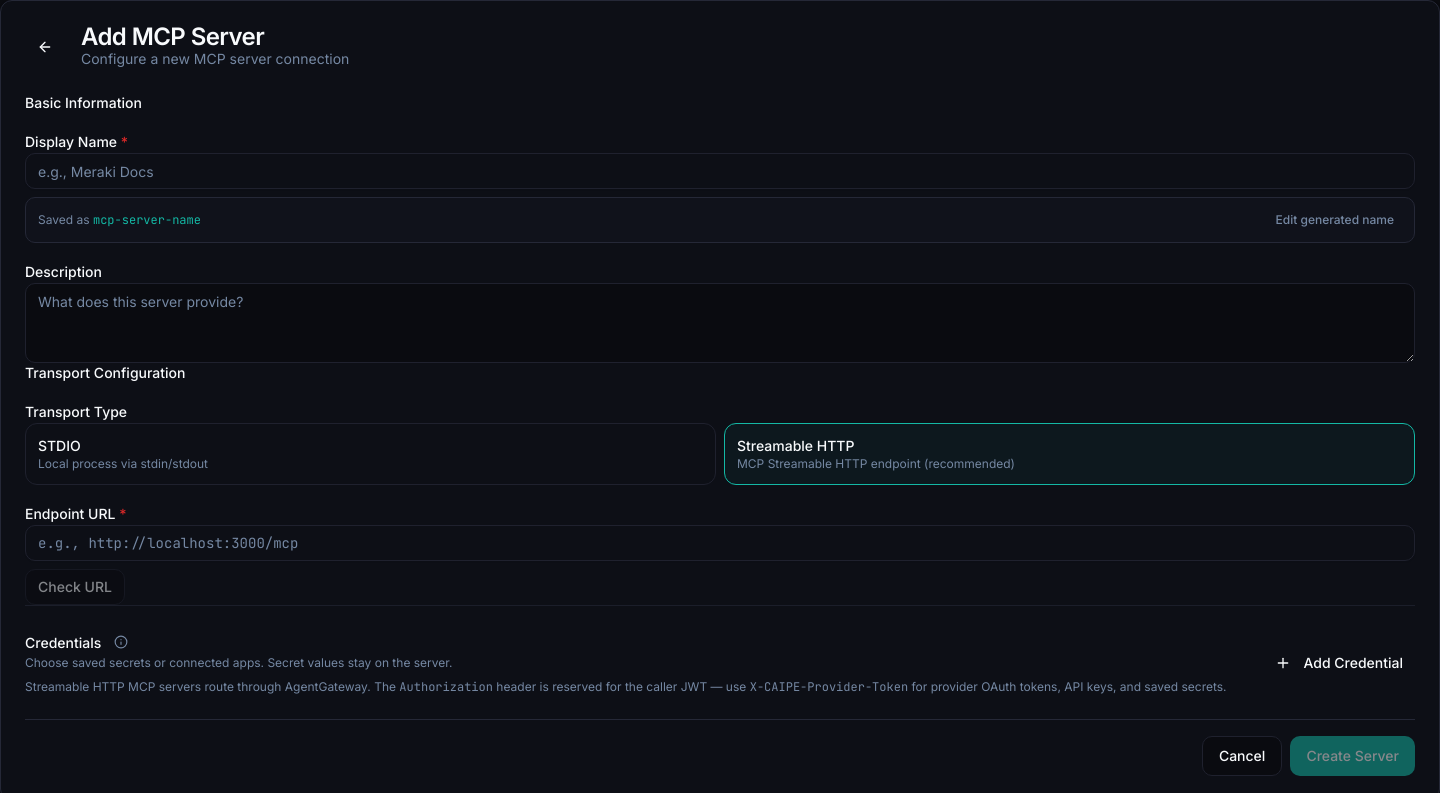
it: MCPServerEditor credential sources › warns when Authorization is selected for AgentGateway-routed servers
Type "Auth Warning Test" into the field labelled "Display Name *". click: x=720, y=171
box: [25, 153, 1415, 189]
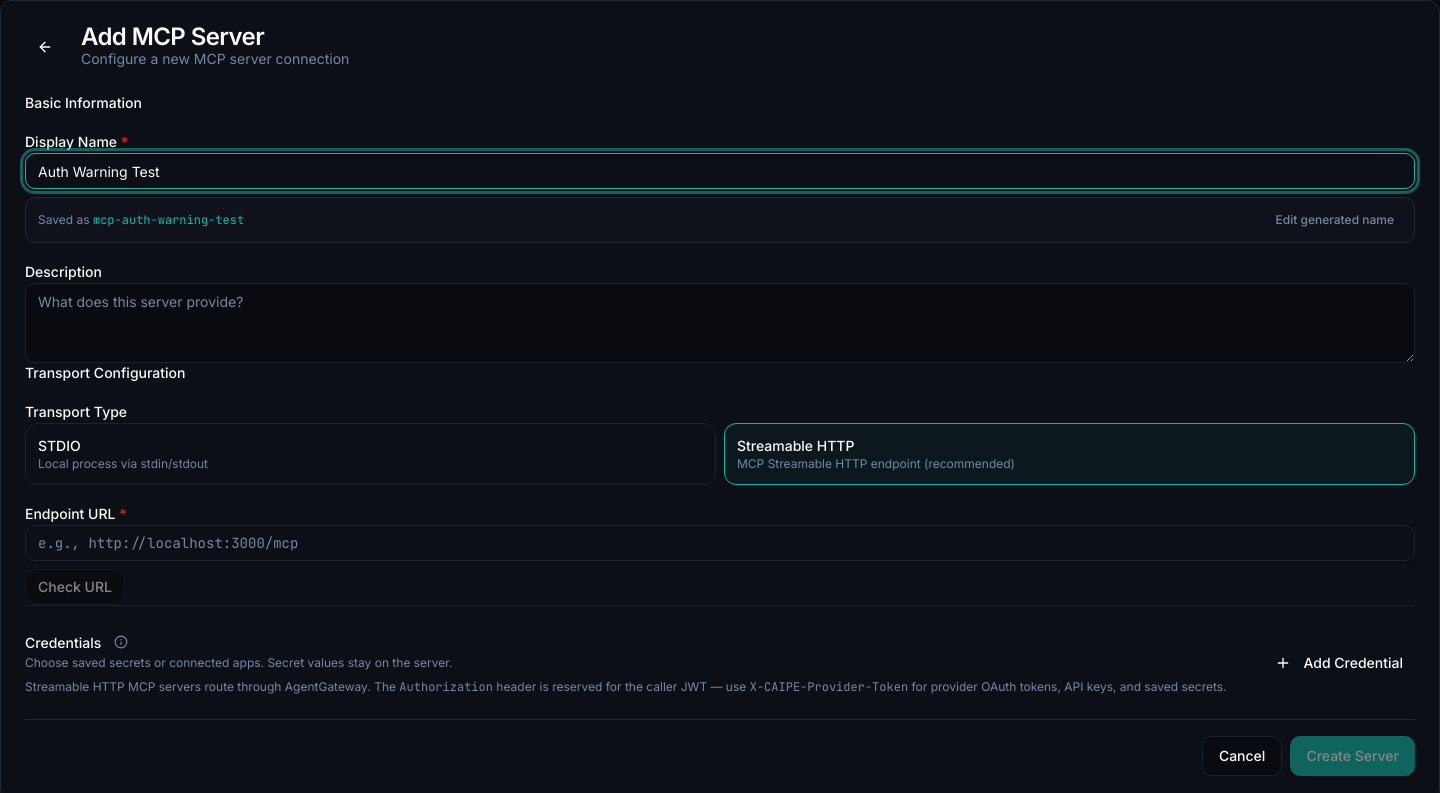
Type "https://mcp.example.com/mcp" into the field labelled "Endpoint URL *". click: x=720, y=543
box: [25, 525, 1415, 561]
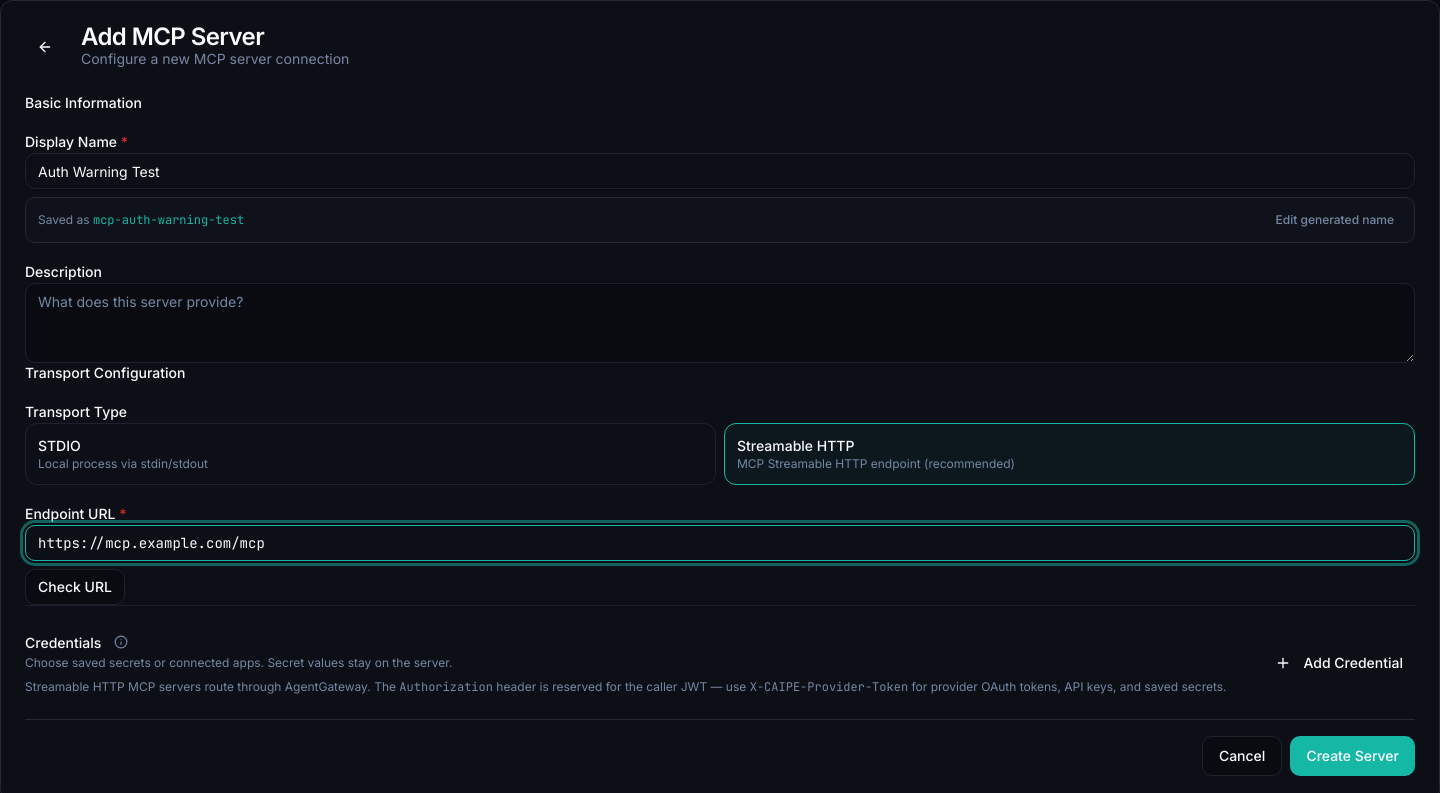
Click the button "Add Credential". click: x=1339, y=662
box: [1263, 644, 1415, 680]
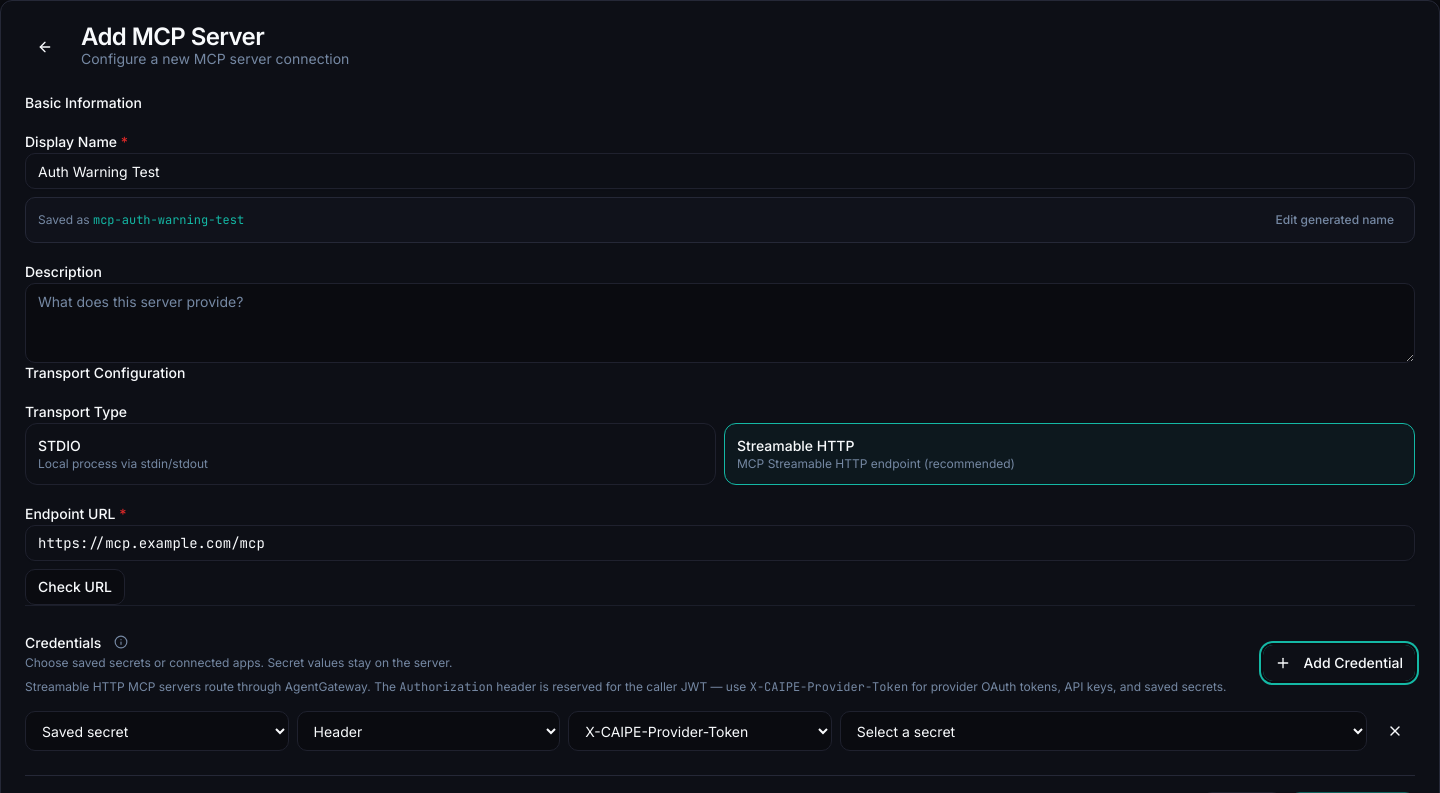
Expected: the text "route through AgentGateway" is shown, [25, 679, 396, 694]
Select "Authorization" in the dropdown named "credential header". click: x=700, y=731
box: [568, 711, 832, 751]
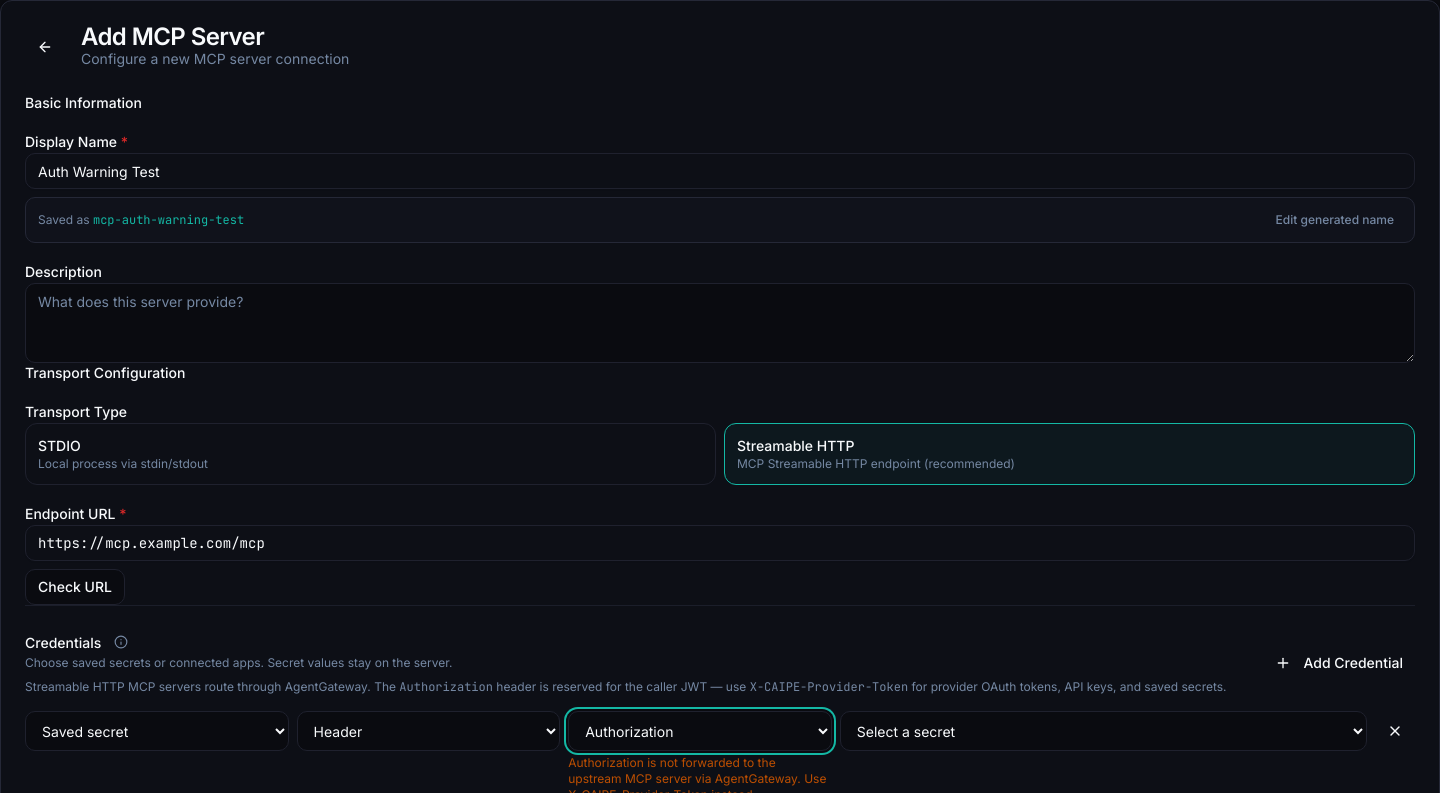
Expected: the text "Authorization is not forwarded to the upstream MCP server via AgentGateway" is shown, [568, 755, 826, 786]
